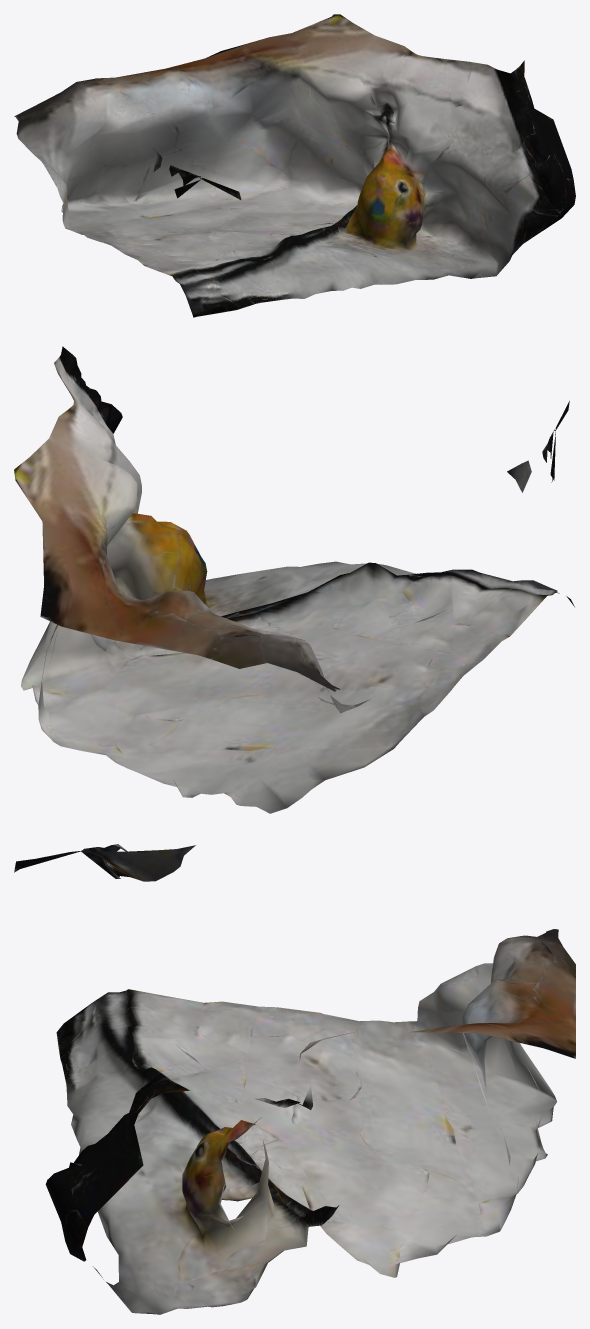
Rendered from hall.glb.
3 views of the same model, one above another, from view 1: azimuth 30°, elevation 25°; view 2: azimuth 150°, elevation 25°; view 3: azimuth 270°, elevation 25° (orthographic). The views are drawn at different scales.
Size of the model in its own units: 0.7881 by 0.3685 by 0.7318.
Materials: 1 (1 with a texture image).
